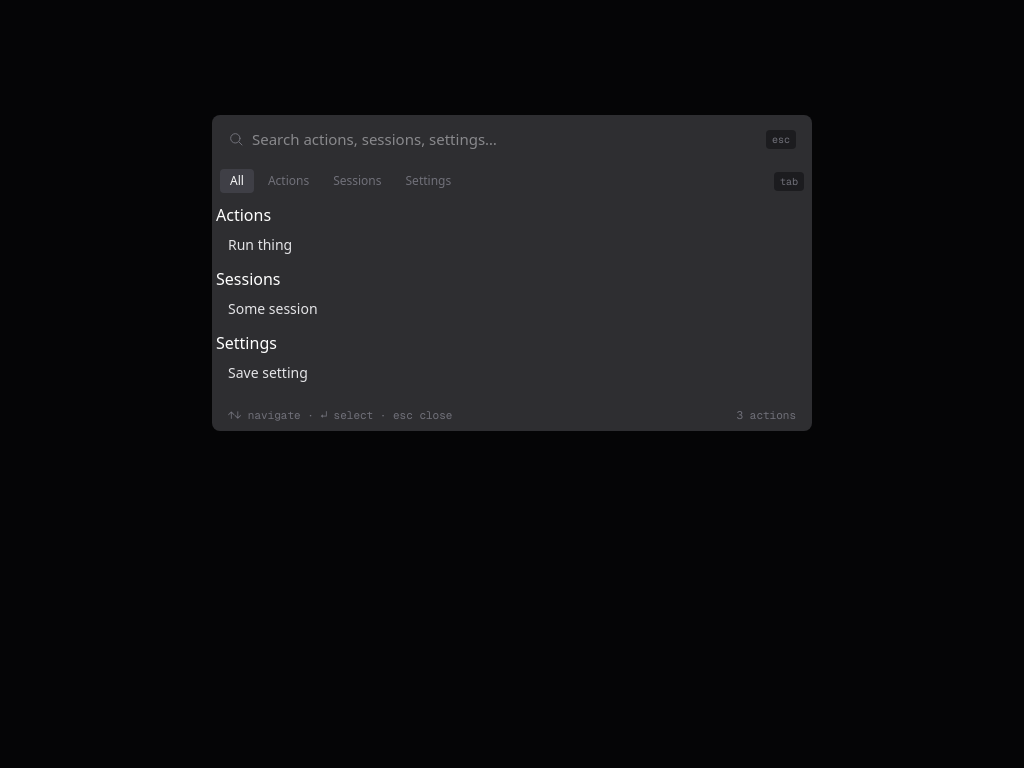
Test: CommandPalette › category tabs › hides the strip and counts only matches when a query leaves one group
Type "setting" into the dropdown with placeholder "Search actions, sessions, settings…" at coordinates (505, 139), box [252,128,758,150]
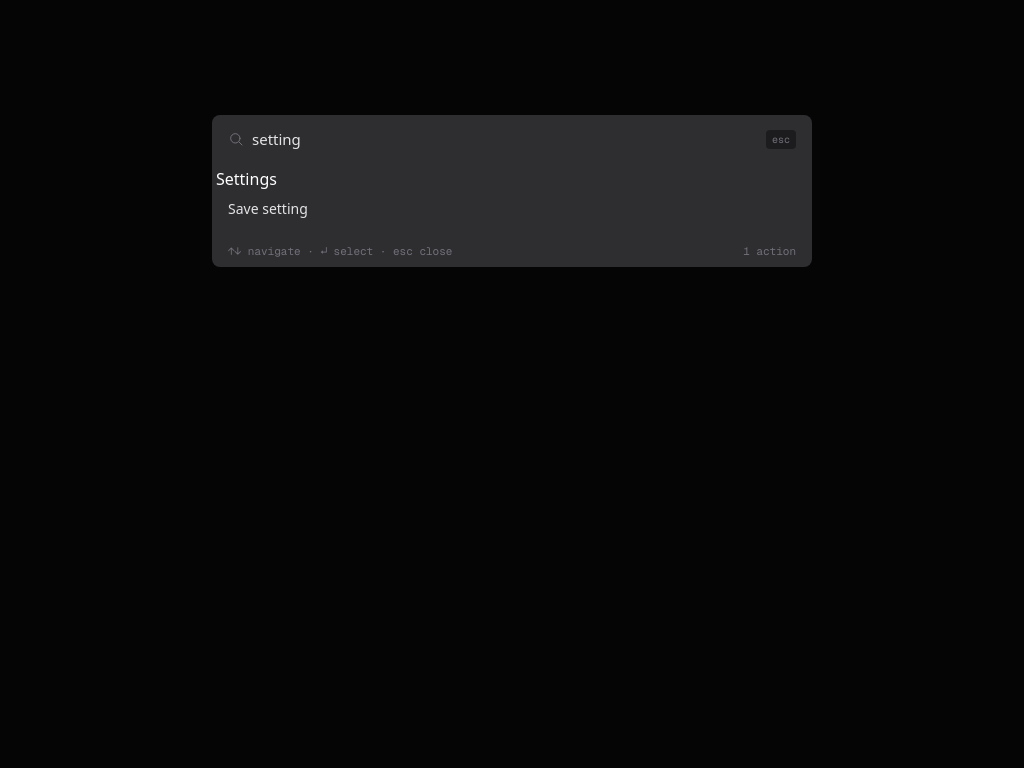
Check: the text "1 action" is shown, box [743,243,796,259]
Check: the option "Run thing" is gone
Check: the option "Some session" is gone
